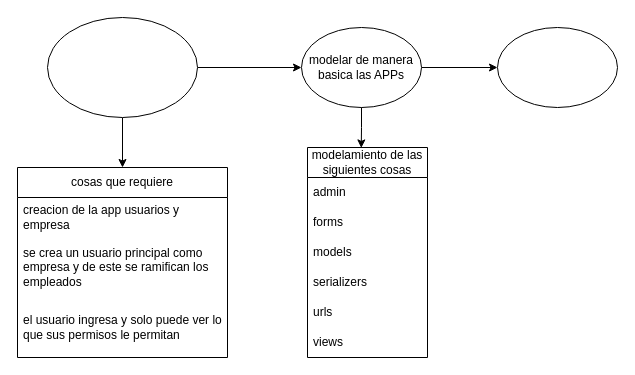
This 635x375 diagram has some shape labels left out. The box of each missing label's shape, as (x1, y1, x2, y2) in pixels:
creacion de un login para que puedan iniciar seccion: (46, 16, 198, 118)
hacer la pantalla principal: (496, 26, 618, 108)
